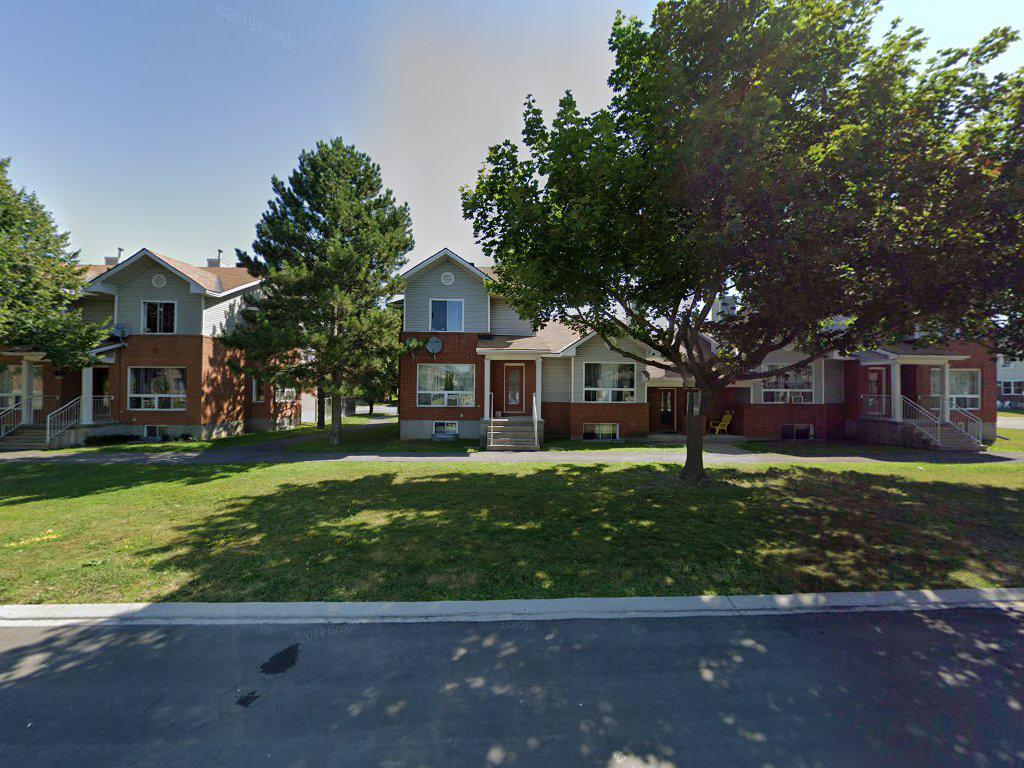trunk: (676, 348, 715, 485)
